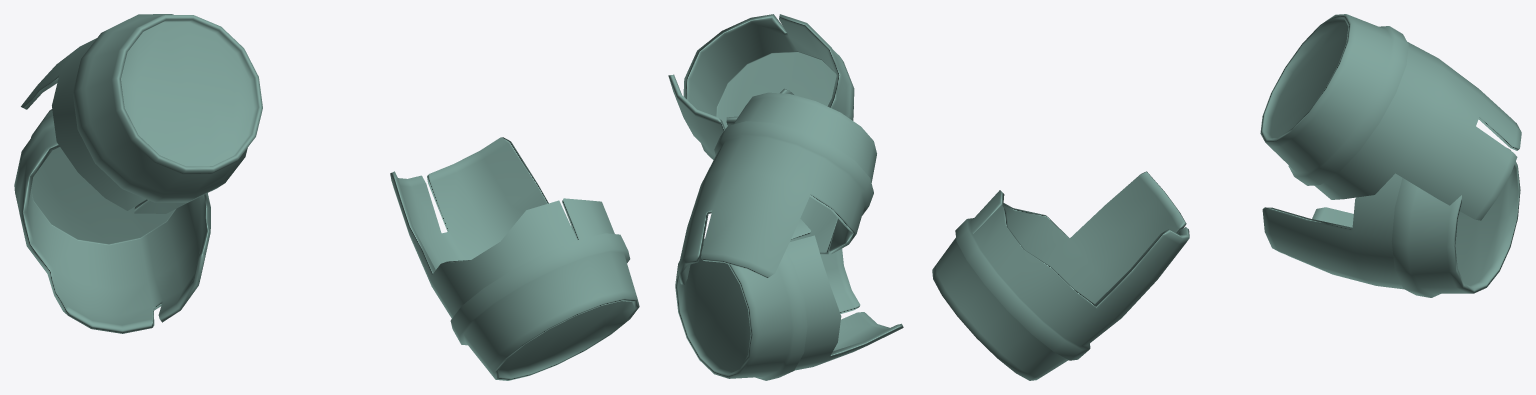
The model's file is Barrel_Break_03B_Lod0.fbx.
3 renders of one model, left to right at view 1: azimuth 30°, elevation 25°; view 2: azimuth 150°, elevation 25°; view 3: azimuth 270°, elevation 25°, orthographic. The views are drawn at different scales.
Visible parts, largest first — view 1: Barrel_Break_03B_Lod0; view 2: Barrel_Break_03B_Lod0; view 3: Barrel_Break_03B_Lod0.
Boxes of the visible parts, bbox=[...] form: Barrel_Break_03B_Lod0: bbox=[14, 14, 639, 380]; Barrel_Break_03B_Lod0: bbox=[668, 14, 903, 380]; Barrel_Break_03B_Lod0: bbox=[932, 14, 1521, 380].
Size of the model in its own units: 158 by 112 by 221.
